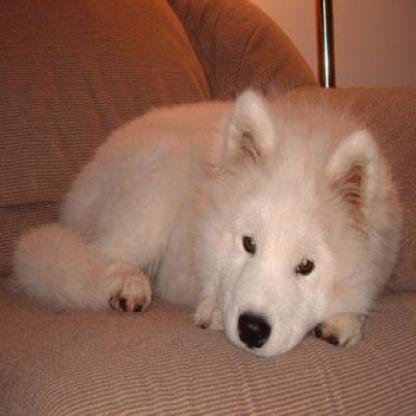Samoyed: (11, 82, 409, 356)
